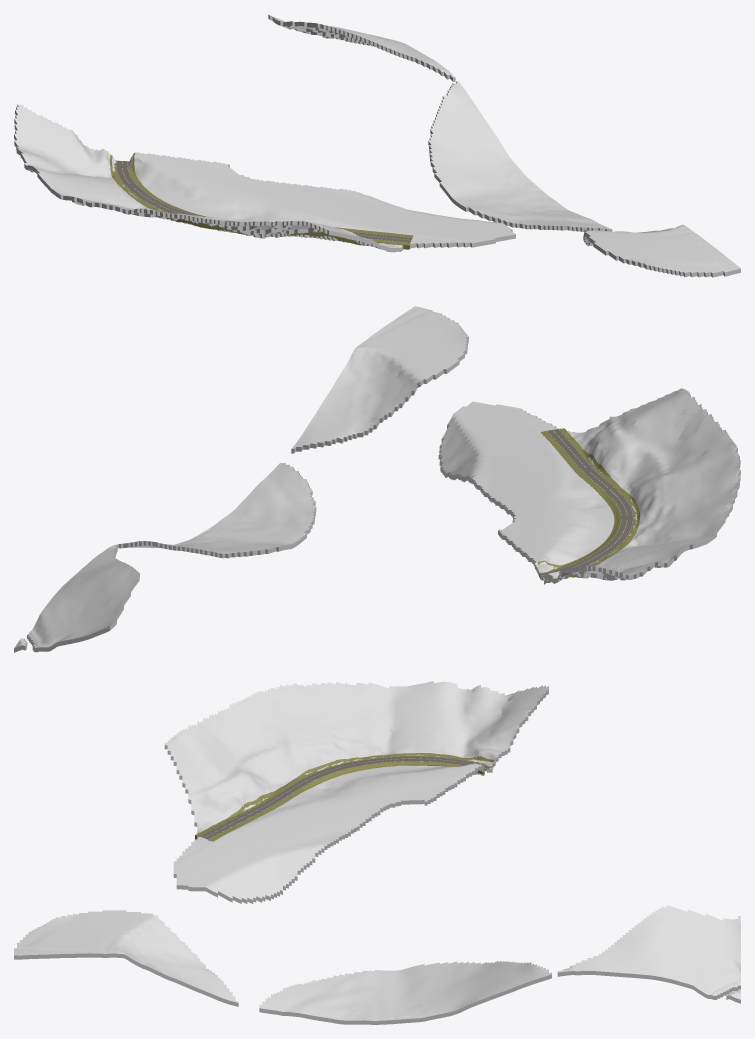
Rendered from conz_35.glb.
3 renders of one model, top to bottom at view 1: azimuth 30°, elevation 25°; view 2: azimuth 150°, elevation 25°; view 3: azimuth 270°, elevation 25°, orthographic. The views are drawn at different scales.
Visible parts, largest first — view 1: terrain35, road35, verge35R, verge35L; view 2: terrain35, road35, verge35L, verge35R; view 3: terrain35, road35, verge35R, verge35L.
Part boxes in pixels (<box>): terrain35: <box>14,14,740,277</box>; road35: <box>116,160,412,242</box>; verge35R: <box>110,155,410,249</box>; verge35L: <box>128,153,413,237</box>; terrain35: <box>14,306,740,652</box>; road35: <box>541,429,633,578</box>; verge35L: <box>537,431,620,577</box>; verge35R: <box>546,428,639,582</box>; terrain35: <box>14,681,740,1024</box>; road35: <box>200,756,490,839</box>; verge35R: <box>195,753,494,839</box>; verge35L: <box>208,761,484,841</box>.
Size of the model in its own units: 360 by 99.88 by 492.
